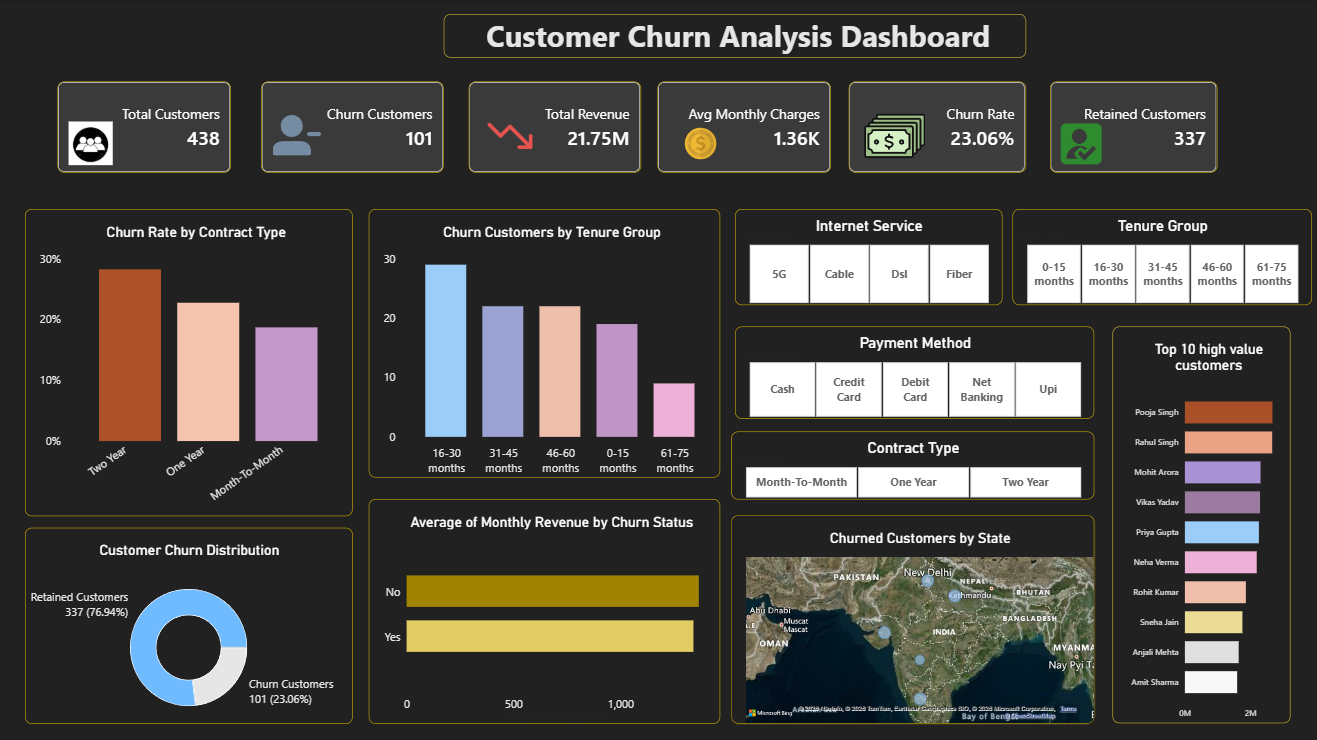

This screenshot's page, from the dashboard's own definition file:
{"tool":"powerbi","page":{"name":"Page 1","canvas":[1920,1080],"ordinal":0},"visuals":[{"type":"cardVisual","fields":{"Data":["Dax calculations.Total Customers"]},"box":[90.5,119.4,251.5,132.1],"z":0},{"type":"cardVisual","fields":{"Data":["Dax calculations.Chur Customers"]},"box":[385.5,119.4,264.2,132.1],"z":1000},{"type":"cardVisual","fields":{"Data":["Dax calculations.Avg Monthly Charges"]},"box":[959.1,119.4,251.5,132.1],"z":2000},{"type":"cardVisual","fields":{"Data":["Dax calculations.Churn Rate"]},"box":[1236,119.4,257,132.1],"z":3000},{"type":"cardVisual","fields":{"Data":["Dax calculations.Total Revenue"]},"box":[685.9,119.4,249.7,132.1],"z":4000},{"type":"clusteredColumnChart","title":"Churn Rate by Contract Type","fields":{"Category":["Churn_Clean_Data.Contract_Type"],"Y":["Dax calculations.Churn Rate"]},"box":[43.4,304,474.1,445.2],"z":5000},{"type":"donutChart","title":"Customer Churn Distribution","fields":{"Y":["Dax calculations.Retained Customers","Dax calculations.Churn Customers"]},"box":[43.4,765.5,474.1,284.1],"z":6000},{"type":"clusteredColumnChart","title":"Churn Customers by Tenure Group","fields":{"Category":["Churn_Clean_Data.Tenure_Group"],"Y":["Dax calculations.Churn Customers"]},"box":[541.1,304,508.5,389.1],"z":7000},{"type":"clusteredBarChart","title":"Average of Monthly Revenue by Churn Status","fields":{"Category":["Churn_Clean_Data.Churn"],"Y":["Avg(Churn_Clean_Data.Monthly_Revenue)"]},"box":[541.1,723.9,508.5,325.7],"z":8000},{"type":"cardVisual","fields":{"Data":["Dax calculations.Retained Customers"]},"box":[1527.4,119.4,242.5,132.1],"z":9000},{"type":"slicer","title":"Contract Type","fields":{"Values":["Churn_Clean_Data.Contract_Type"]},"box":[1066.7,625.9,525.9,98.1],"z":10000},{"type":"slicer","title":"Internet Service","fields":{"Values":["Churn_Clean_Data.Internet_Service"]},"box":[1072.2,303.7,387,138.9],"z":11000},{"type":"slicer","title":"Payment Method","fields":{"Values":["Churn_Clean_Data.Payment_Method"]},"box":[1072.2,474.1,520.4,133.3],"z":12000},{"type":"slicer","title":"Tenure Group","fields":{"Values":["Churn_Clean_Data.Tenure_Group"]},"box":[1472.2,303.7,433.3,138.9],"z":13000},{"type":"textbox","box":[649.7,21.7,843.3,63.3],"z":14000},{"type":"image","box":[90.5,177.3,95.9,63.3],"z":15000},{"type":"image","box":[401.7,153.8,70.6,86.9],"z":16000},{"type":"image","box":[707.6,153.8,76,88.7],"z":17000},{"type":"image","box":[989.9,186.4,63.3,45.2],"z":18000},{"type":"image","box":[1241.4,153.8,123.1,88.7],"z":19000},{"type":"image","box":[1527.4,177.3,90.5,65.1],"z":20000},{"type":"map","title":"Churned Customers by State","fields":{"Category":["Churn_Clean_Data.State"],"Size":["Dax calculations.Churn Customers"]},"box":[1066.7,748.1,525.9,301.9],"z":21000},{"type":"clusteredBarChart","title":"Top 10 high value customers","fields":{"Category":["Churn_Clean_Data.Customer_Name"],"Y":["Sum(Churn_Clean_Data.Customer_pay)"]},"box":[1618.5,474.1,257.4,574.1],"z":21001}]}

Visuals, with their boxes in screenshot pixels (x1, y1, x2, y2), scaled from the page's 1920x1080 canvas onto the 1317x740 screenshot:
cardVisual - Dax calculations.Total Customers: l=62, t=82, r=235, b=172
cardVisual - Dax calculations.Chur Customers: l=264, t=82, r=446, b=172
cardVisual - Dax calculations.Avg Monthly Charges: l=658, t=82, r=830, b=172
cardVisual - Dax calculations.Churn Rate: l=848, t=82, r=1024, b=172
cardVisual - Dax calculations.Total Revenue: l=470, t=82, r=642, b=172
"Churn Rate by Contract Type" clusteredColumnChart: l=30, t=208, r=355, b=513
"Customer Churn Distribution" donutChart: l=30, t=525, r=355, b=719
"Churn Customers by Tenure Group" clusteredColumnChart: l=371, t=208, r=720, b=475
"Average of Monthly Revenue by Churn Status" clusteredBarChart: l=371, t=496, r=720, b=719
cardVisual - Dax calculations.Retained Customers: l=1048, t=82, r=1214, b=172
"Contract Type" slicer: l=732, t=429, r=1092, b=496
"Internet Service" slicer: l=735, t=208, r=1001, b=303
"Payment Method" slicer: l=735, t=325, r=1092, b=416
"Tenure Group" slicer: l=1010, t=208, r=1307, b=303
textbox: l=446, t=15, r=1024, b=58
image: l=62, t=121, r=128, b=165
image: l=276, t=105, r=324, b=165
image: l=485, t=105, r=538, b=166
image: l=679, t=128, r=722, b=159
image: l=852, t=105, r=936, b=166
image: l=1048, t=121, r=1110, b=166
"Churned Customers by State" map: l=732, t=513, r=1092, b=719
"Top 10 high value customers" clusteredBarChart: l=1110, t=325, r=1287, b=718
